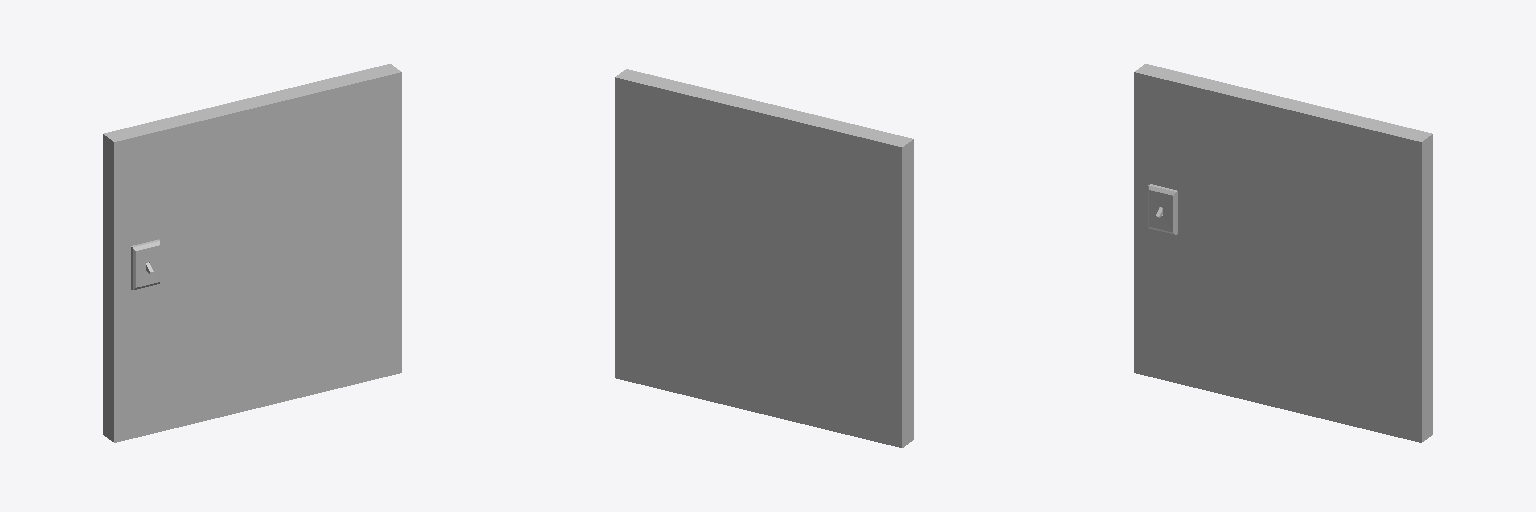
The model's file is ObjInterruptor.obj.
The picture shows the model from 3 angles: view 1: azimuth 30°, elevation 25°; view 2: azimuth 150°, elevation 25°; view 3: azimuth 330°, elevation 25°; orthographic projection.
Visible parts, largest first — view 1: wall, Interruptor; view 2: wall; view 3: wall, Interruptor.
Boxes of the visible parts, x1,y1,x2,y2 form: wall: [103, 64, 401, 442]; Interruptor: [131, 239, 159, 289]; wall: [615, 69, 913, 447]; wall: [1134, 64, 1432, 442]; Interruptor: [1148, 184, 1177, 234].
Size of the model in its own units: 200 by 200 by 22.56.